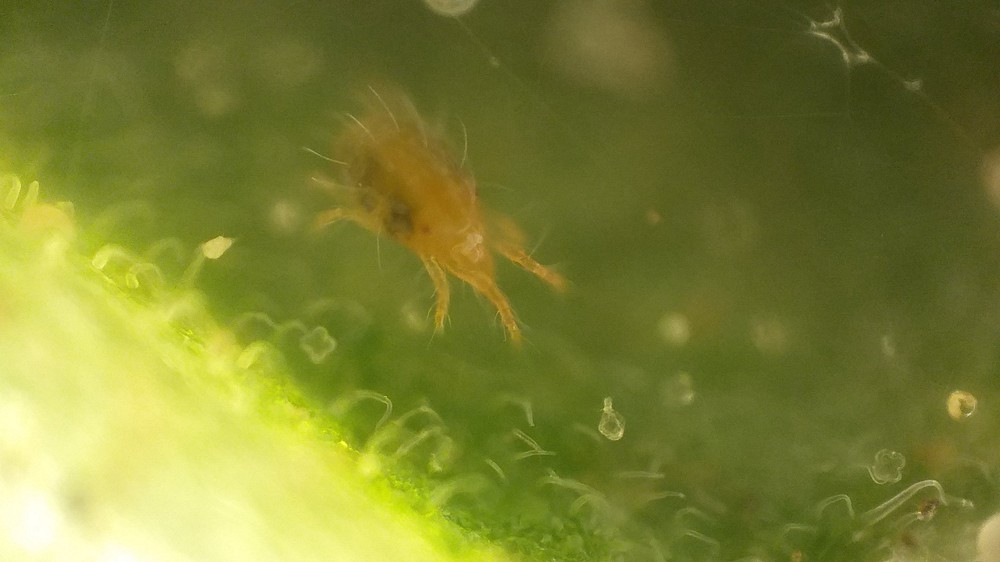Aracnido Rojo: (285, 66, 595, 372)
